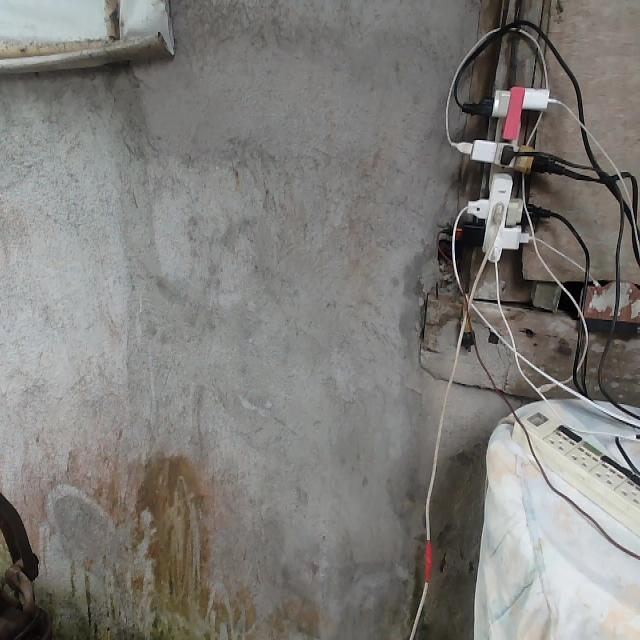-: (462, 84, 549, 263)
